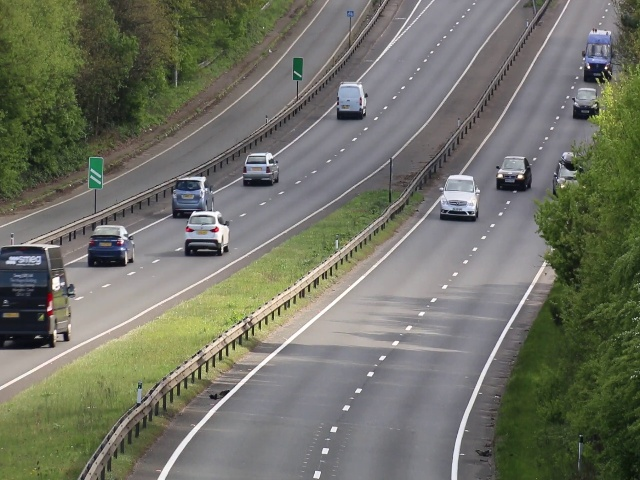car: (1, 244, 74, 345), (184, 211, 231, 257), (89, 227, 134, 268), (441, 176, 480, 219), (171, 178, 216, 215), (582, 30, 609, 84), (495, 151, 530, 189), (242, 151, 280, 185), (337, 80, 368, 119), (572, 89, 597, 120)
